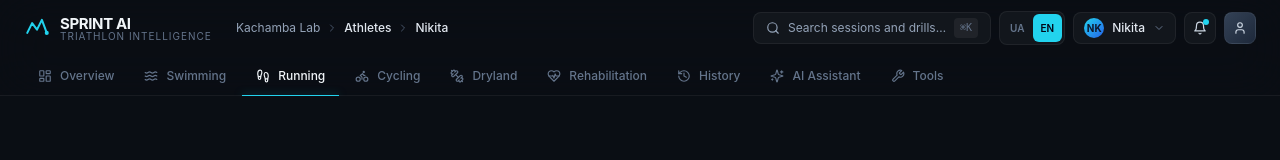
Test: TopNav › switches navigation chrome to Ukrainian and persists the choice
The width and height of the screenshot is (1280, 160).
Click the button with aria-label "Перемкнути мову на українську": (1017, 28) [1002,14,1033,42]
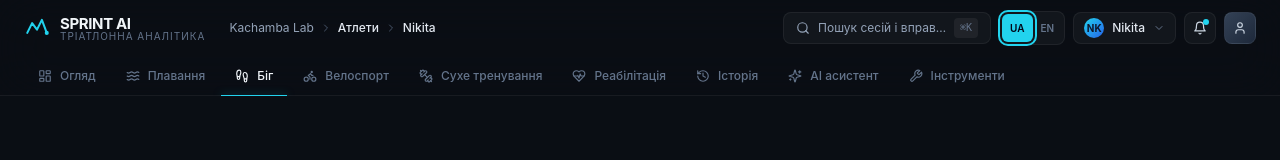
Expected: the link "Біг" is shown, [235,68,273,83]
Expected: the text "Пошук сесій і вправ…" is shown, [818,20,946,36]
